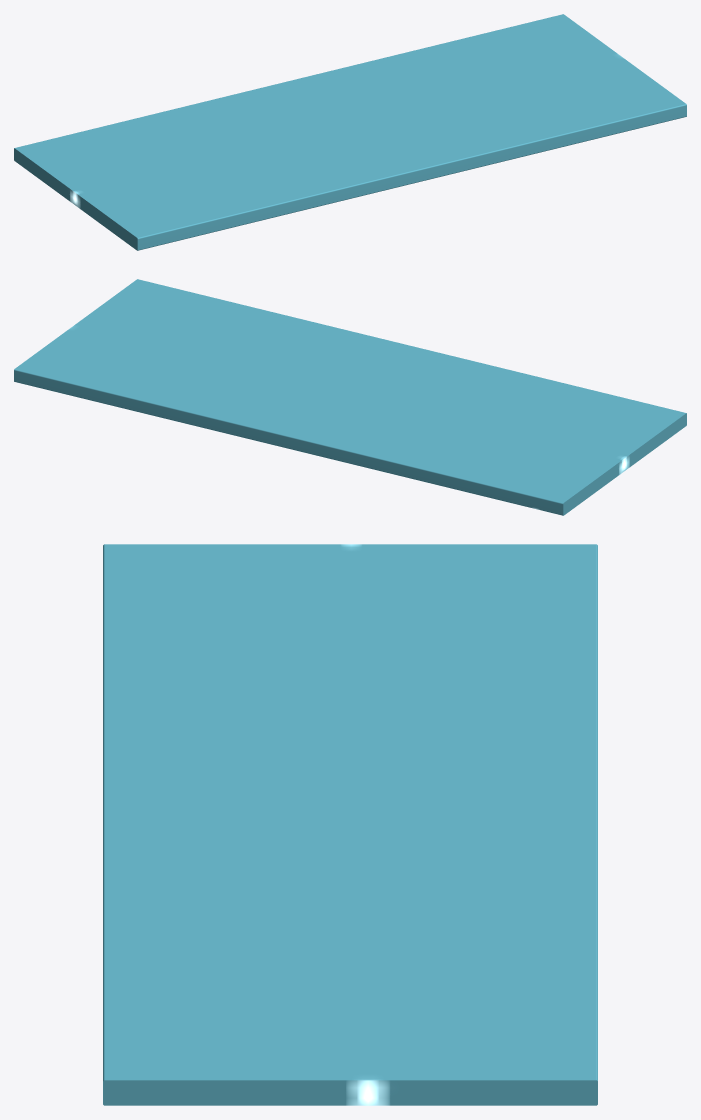
File: shelfRack.gltf
3 renders of one model, top to bottom at view 1: azimuth 30°, elevation 25°; view 2: azimuth 150°, elevation 25°; view 3: azimuth 270°, elevation 25°, orthographic. The views are drawn at different scales.
Visible parts, largest first — view 1: shelf5; view 2: shelf5; view 3: shelf5.
Part boxes in pixels (<box>): shelf5: <box>14,14,686,250</box>; shelf5: <box>14,279,686,515</box>; shelf5: <box>103,544,597,1105</box>.
Size of the model in its own units: 7.88 by 0.1756 by 3.08.
Materials: 1 (1 with a texture image).
